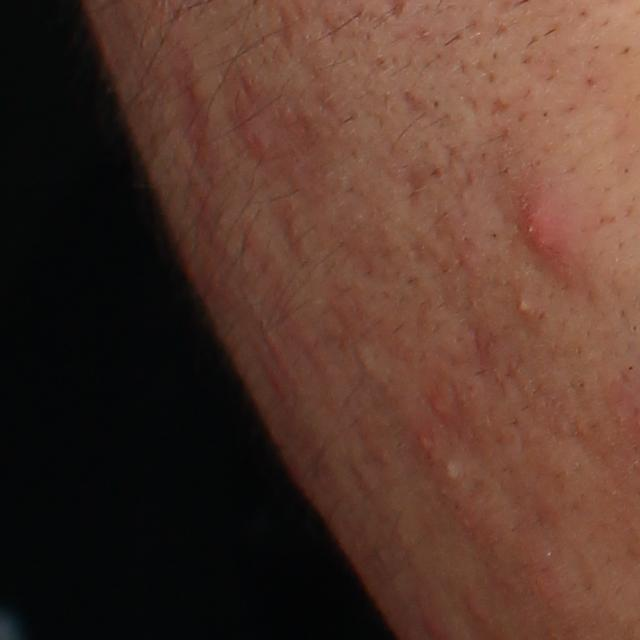papule: (515, 204, 567, 266), (233, 100, 268, 159), (463, 597, 492, 629), (429, 395, 454, 422), (410, 427, 434, 454)
pustule: (441, 456, 468, 485)
